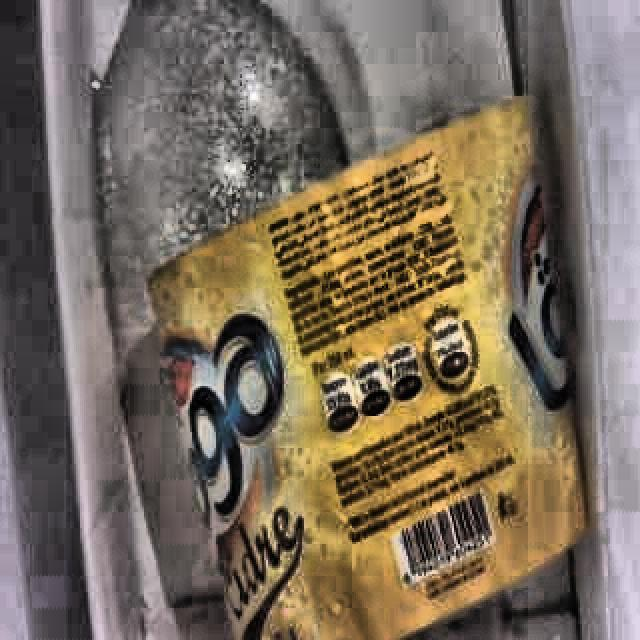plastic: (66, 0, 528, 640)
